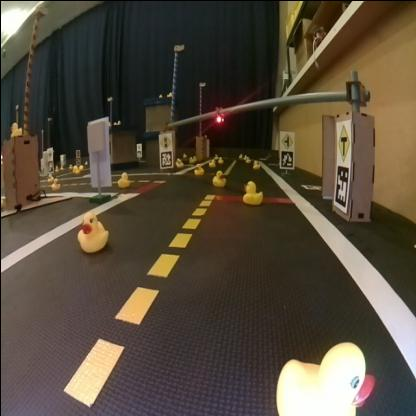Duckie: (275, 340, 372, 414), (78, 210, 106, 248), (242, 180, 262, 204), (210, 169, 224, 185), (116, 170, 128, 184), (10, 122, 20, 134), (193, 162, 202, 174), (50, 178, 56, 186), (208, 158, 214, 166), (244, 156, 250, 163), (176, 158, 181, 166), (217, 155, 222, 163), (253, 160, 259, 166)
Intersection sign: (335, 122, 349, 160), (280, 130, 291, 148)
QR code: (334, 164, 348, 206), (280, 148, 291, 166), (160, 152, 170, 166)
Signal sign: (159, 134, 169, 146)
